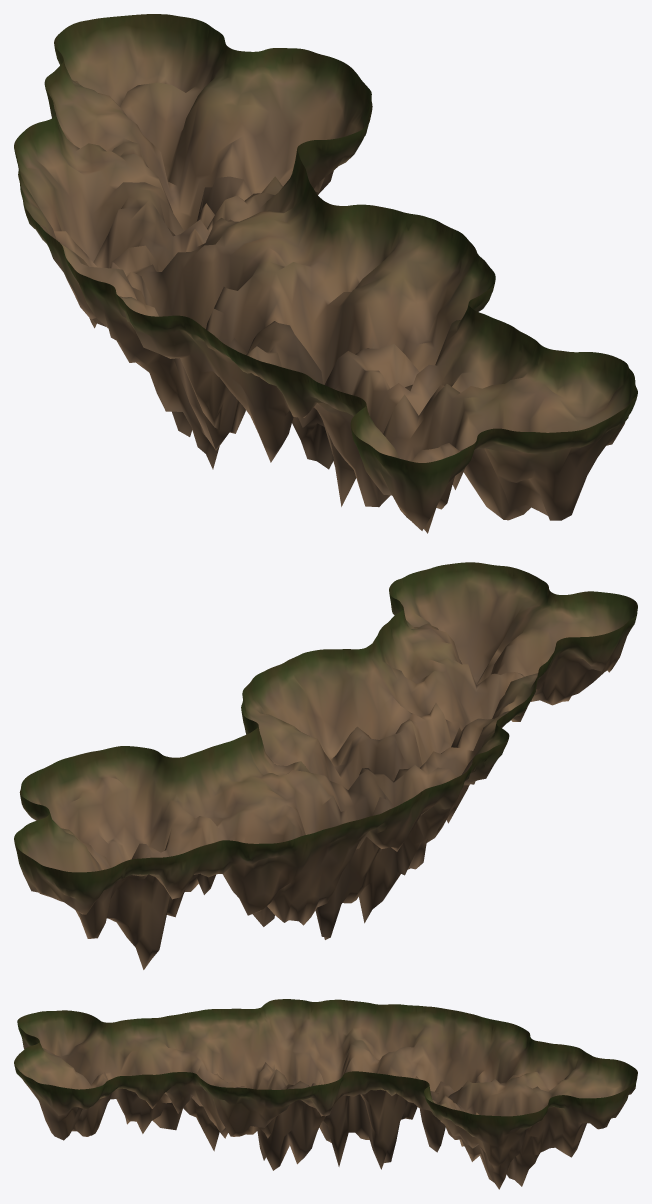
The model's file is SM_H05_IslandRock.fbx.
The picture shows the model from 3 angles, top to bottom: view 1: azimuth 30°, elevation 25°; view 2: azimuth 150°, elevation 25°; view 3: azimuth 270°, elevation 25°; orthographic projection. The views are drawn at different scales.
Parts seen in each view (by area): view 1: SM_H05_IslandRock; view 2: SM_H05_IslandRock; view 3: SM_H05_IslandRock.
Boxes of the visible parts, x1,y1,x2,y2 form: SM_H05_IslandRock: (14,14,637,533); SM_H05_IslandRock: (14,562,637,969); SM_H05_IslandRock: (14,999,637,1189).
Size of the model in its own units: 166 by 87.77 by 376.
